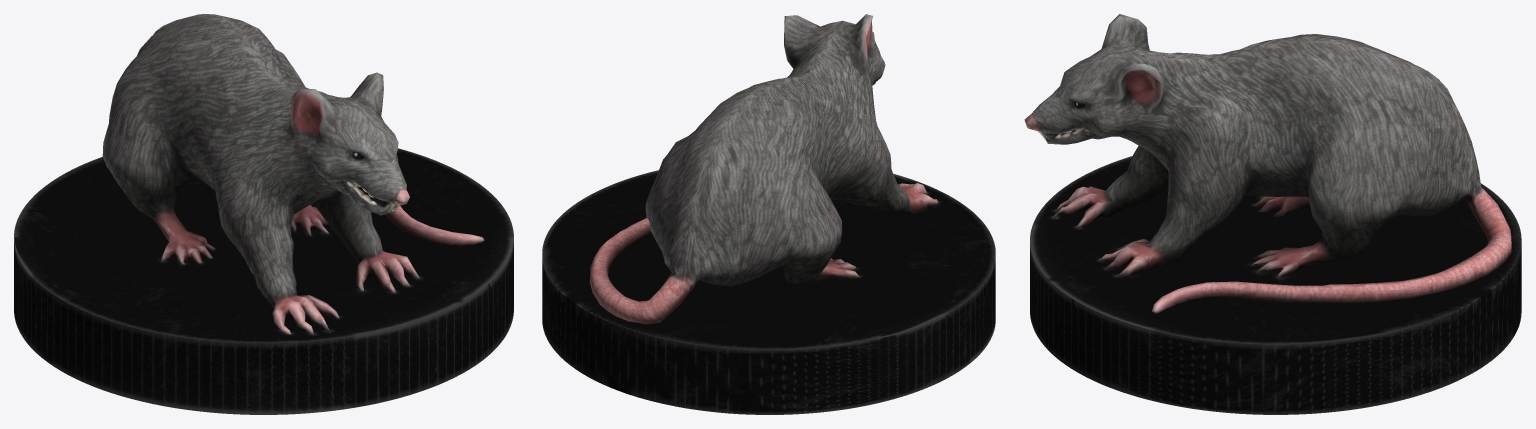
The model's file is MZ4250 - Giant Rat.glb.
3 renders of one model, left to right at view 1: azimuth 30°, elevation 25°; view 2: azimuth 150°, elevation 25°; view 3: azimuth 270°, elevation 25°, orthographic. The views are drawn at different scales.
Visible parts, largest first — view 1: base_low.001, model_low.001; view 2: base_low.001, model_low.001; view 3: model_low.001, base_low.001.
Boxes of the visible parts, <box> form: base_low.001: <box>14,148,513,414</box>; model_low.001: <box>102,14,484,334</box>; base_low.001: <box>542,170,995,414</box>; model_low.001: <box>589,14,938,324</box>; model_low.001: <box>1024,14,1511,314</box>; base_low.001: <box>1030,156,1521,414</box>.
Size of the model in its own units: 1.77 by 1.11 by 1.79.
1 material, 1 textured.
